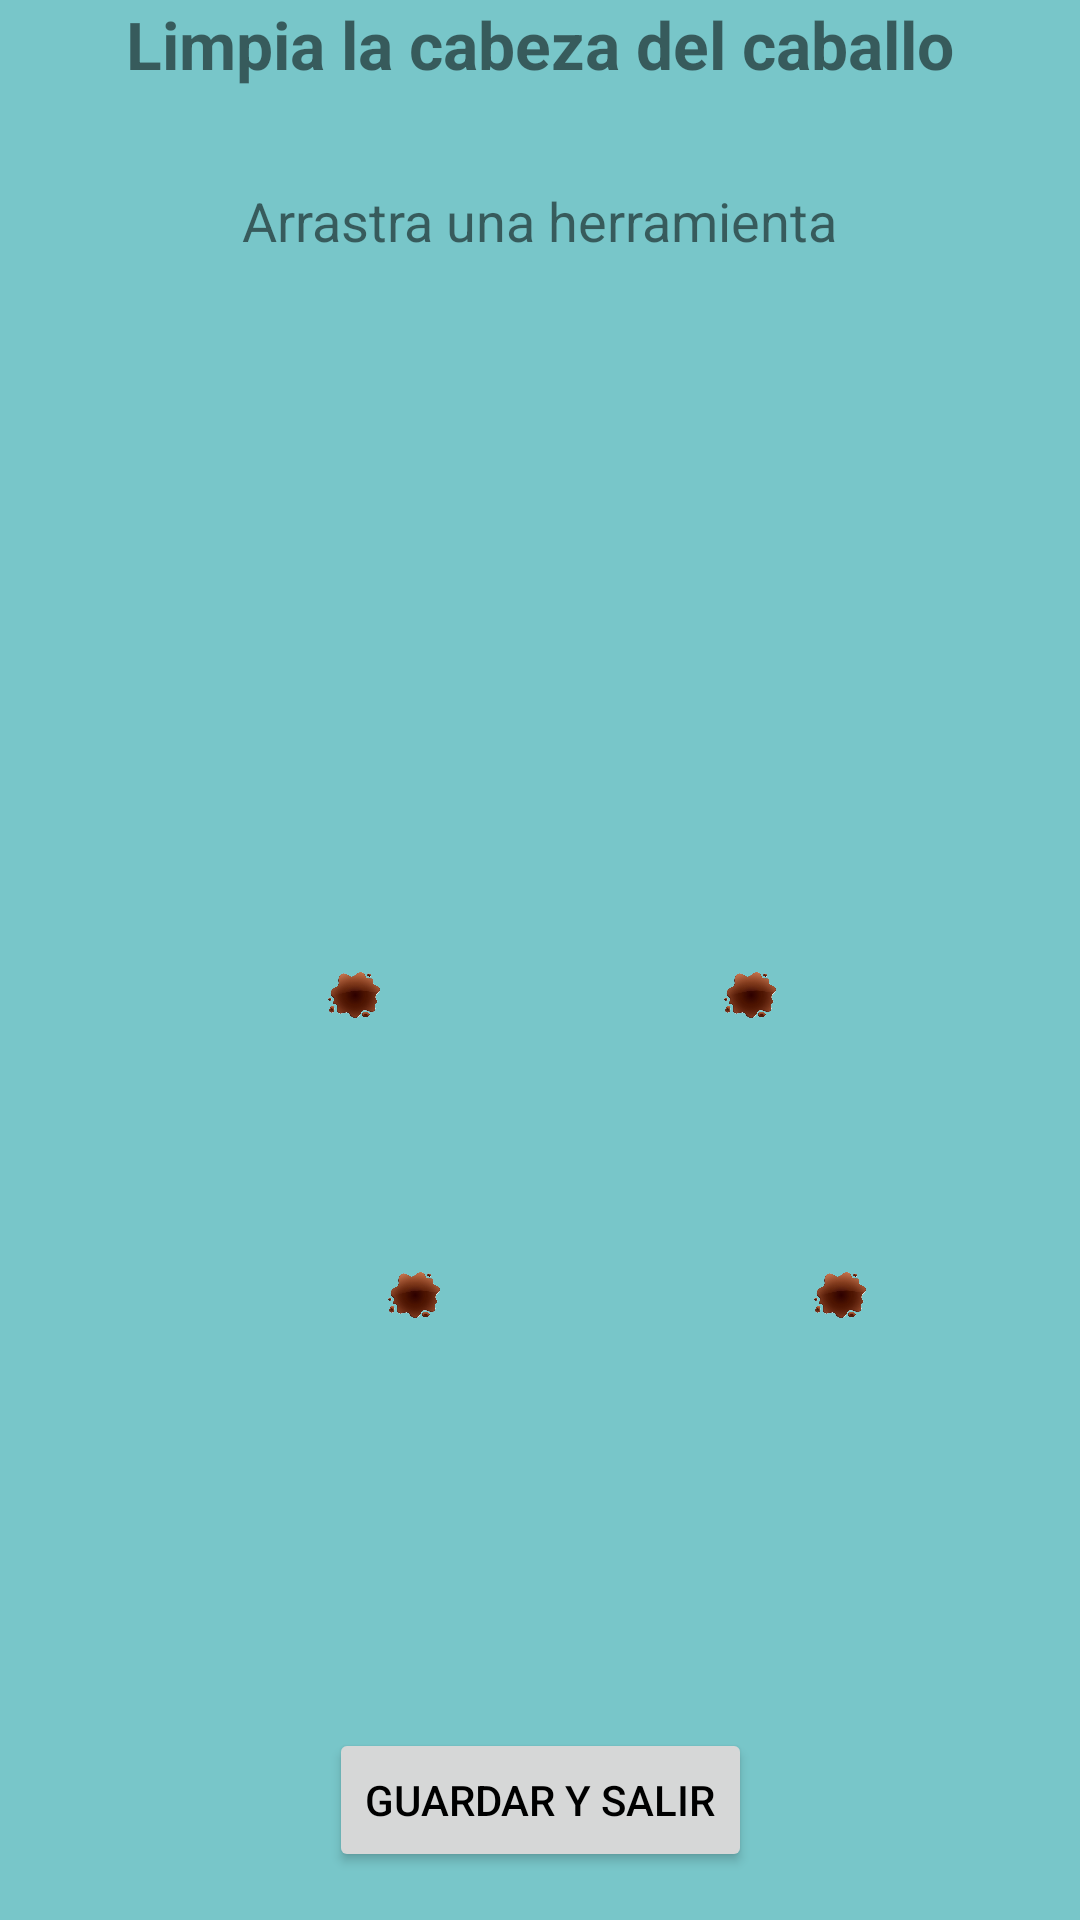

Screen size 1080w x 1920h. Icon name, then its center in pixels as [x,y]:
Mancha 1: [354,995]
Mancha 2: [750,995]
Mancha 3: [414,1295]
Mancha 4: [840,1295]
